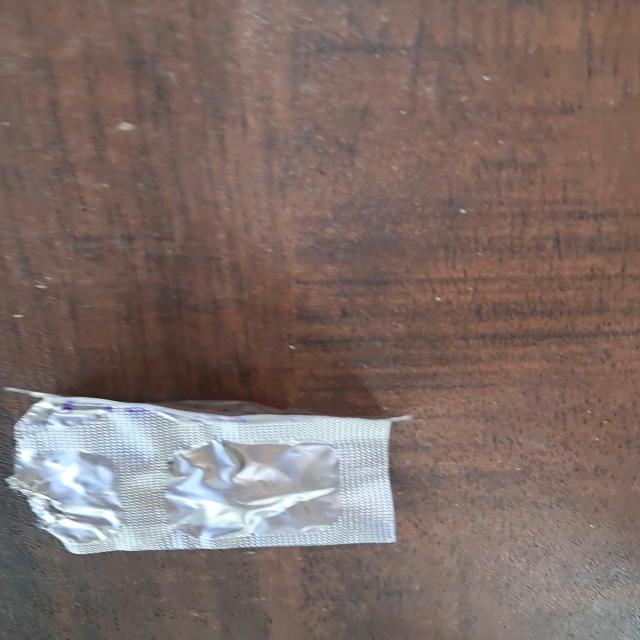Anorganik: (3, 375, 438, 568)
